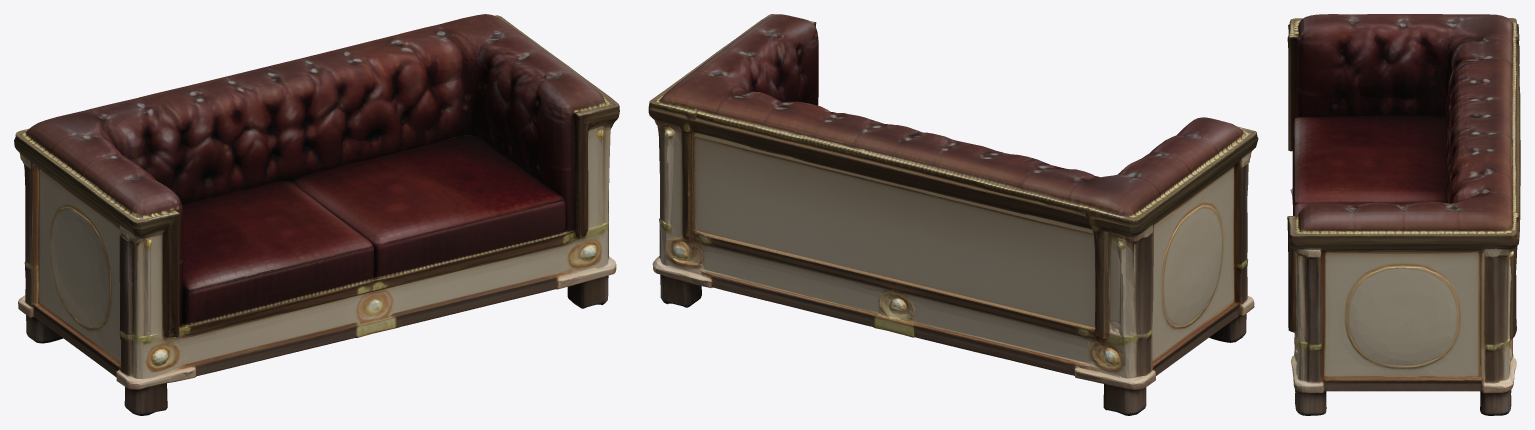
File: chesterfield.glb
The picture shows the model from 3 angles, left to right: view 1: azimuth 30°, elevation 25°; view 2: azimuth 150°, elevation 25°; view 3: azimuth 270°, elevation 25°; orthographic projection. The views are drawn at different scales.
Parts seen in each view (by area): view 1: world; view 2: world; view 3: world.
Part boxes in pixels (x1=…): world: x1=14, y1=14, x2=619, y2=415; world: x1=648, y1=14, x2=1258, y2=415; world: x1=1287, y1=14, x2=1520, y2=415.
Bounding box in the file's own units: 1 × 0.4203 × 0.4482.
Materials: 1 (1 with a texture image).
